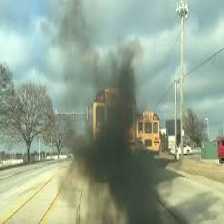smoke: (70, 112, 158, 214)
